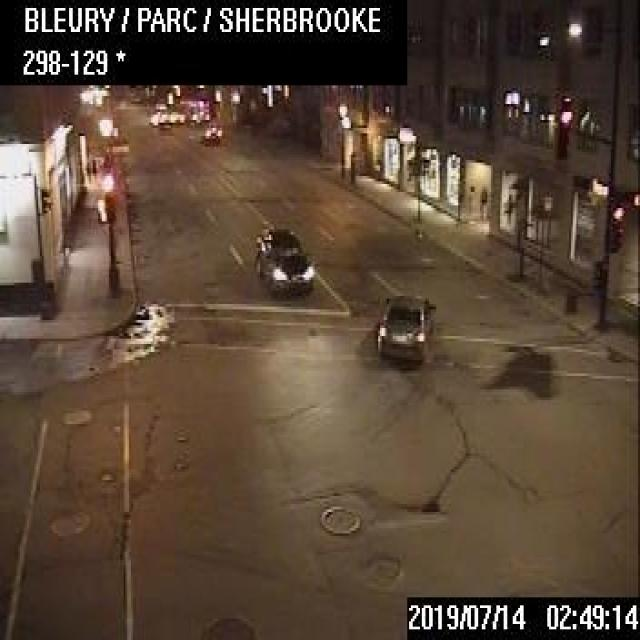vehicle: (253, 224, 316, 293), (372, 291, 434, 360), (202, 123, 220, 141)
